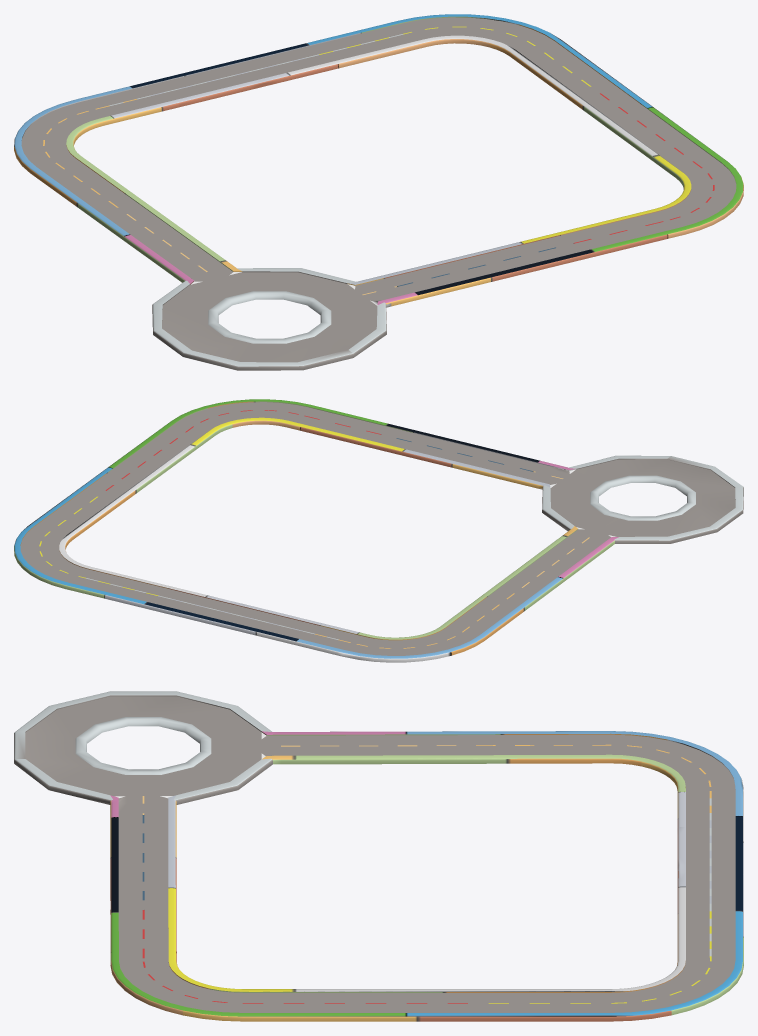
File: PlazaRoadLoop.fbx
3 views of the same model, one above another, from view 1: azimuth 30°, elevation 25°; view 2: azimuth 150°, elevation 25°; view 3: azimuth 270°, elevation 25° (orthographic). The views are drawn at different scales.
Visible parts, largest first — view 1: two-lane-linear-road-piece.011; view 2: two-lane-linear-road-piece.011; view 3: two-lane-linear-road-piece.011.
Part boxes in pixels (box(x1,y1,x2,y2)): two-lane-linear-road-piece.011: box(14, 14, 743, 370); two-lane-linear-road-piece.011: box(14, 399, 743, 662); two-lane-linear-road-piece.011: box(14, 691, 743, 1021).
Size of the model in its own units: 13176 by 107 by 12474.
